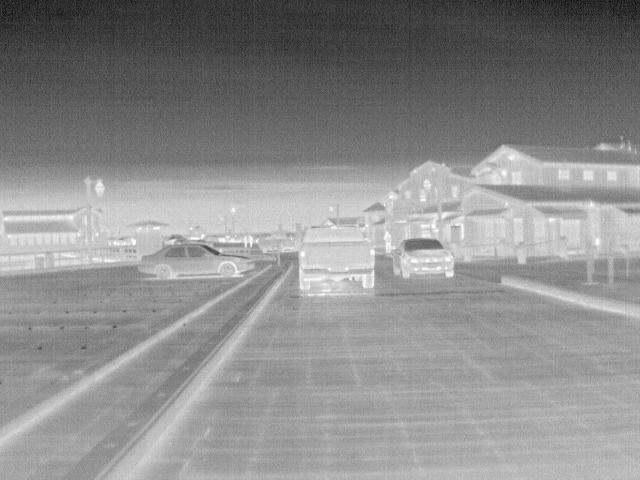car: (298, 223, 379, 291), (134, 242, 257, 283), (392, 236, 458, 280)
person: (381, 230, 394, 256)
